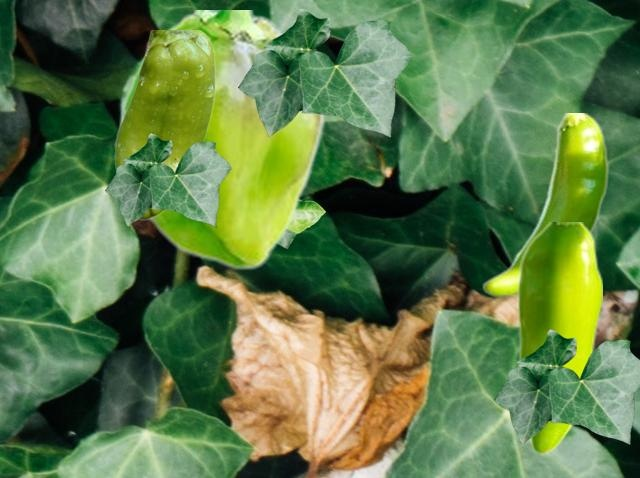green_chili: (118, 10, 326, 270), (481, 113, 608, 297), (517, 222, 601, 454), (114, 30, 214, 219)
